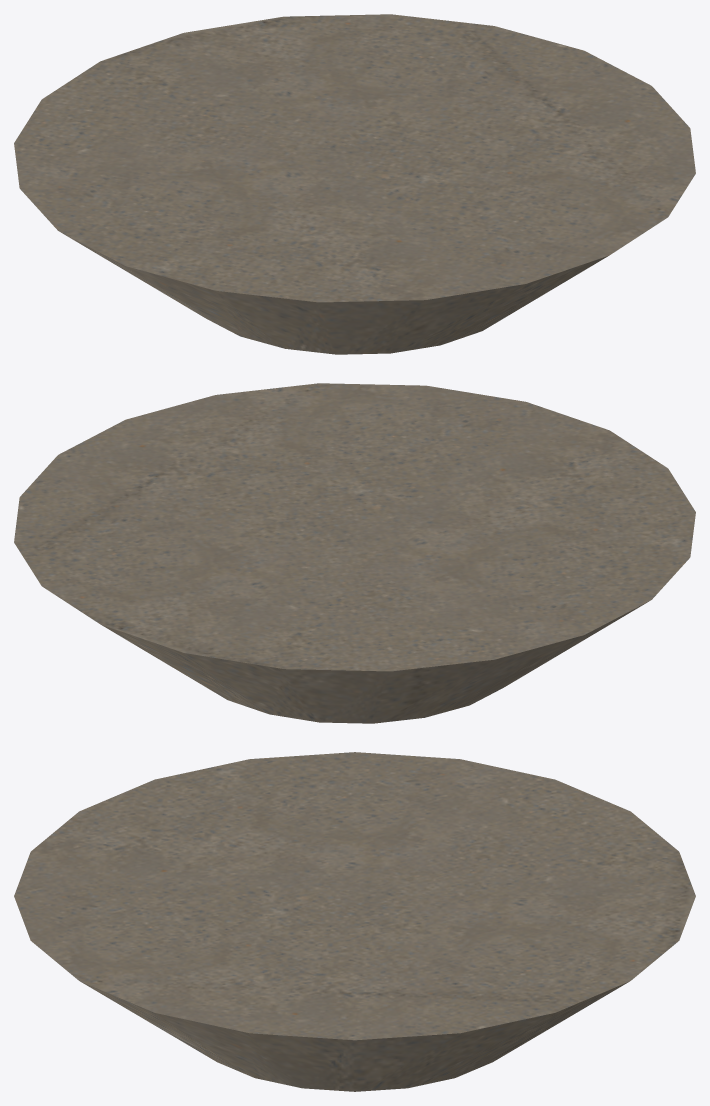
The model's file is Säule100_50B20H.fbx.
3 renders of one model, top to bottom at view 1: azimuth 30°, elevation 25°; view 2: azimuth 150°, elevation 25°; view 3: azimuth 270°, elevation 25°, orthographic.
Visible parts, largest first — view 1: Säule100_50B20H; view 2: Säule100_50B20H; view 3: Säule100_50B20H.
Boxes of the visible parts, <box> form: Säule100_50B20H: <box>14,14,695,354</box>; Säule100_50B20H: <box>14,383,695,723</box>; Säule100_50B20H: <box>14,752,695,1091</box>.
Bounding box in the file's own units: 100 × 20 × 100.
